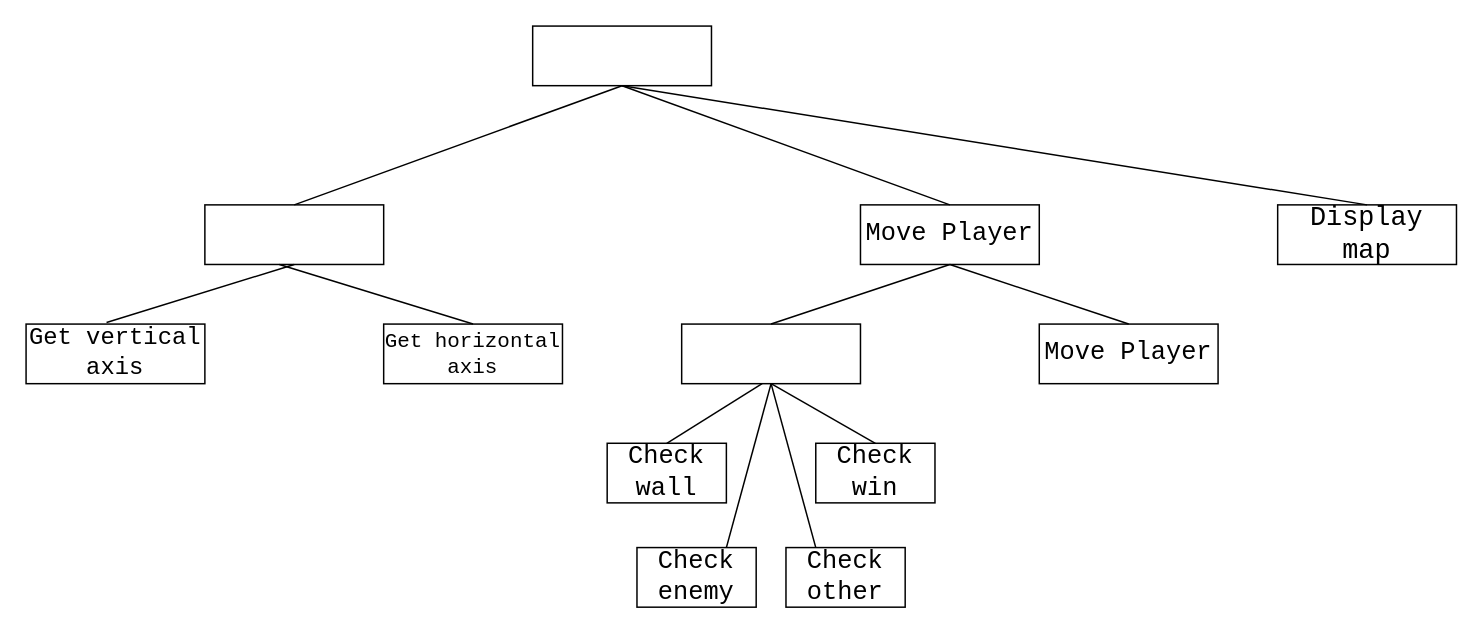
The diagram is 1483 pixels wide and 633 high, and some of its shapes have lost their labels. The shapes that lost their labels are listed below. From the top down, each one's box as (x1, y1, x2, y2) in pixels, then its label:
(531, 25, 711, 86): Adventure Game
(203, 203, 384, 264): Get Movement
(680, 323, 860, 384): Check collisions
